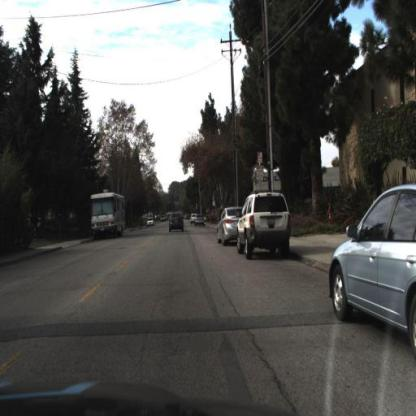car: (330, 183, 416, 365), (235, 190, 294, 261), (215, 205, 243, 246), (167, 211, 189, 237), (145, 214, 160, 231), (195, 213, 208, 231)
truck: (89, 187, 128, 242)
